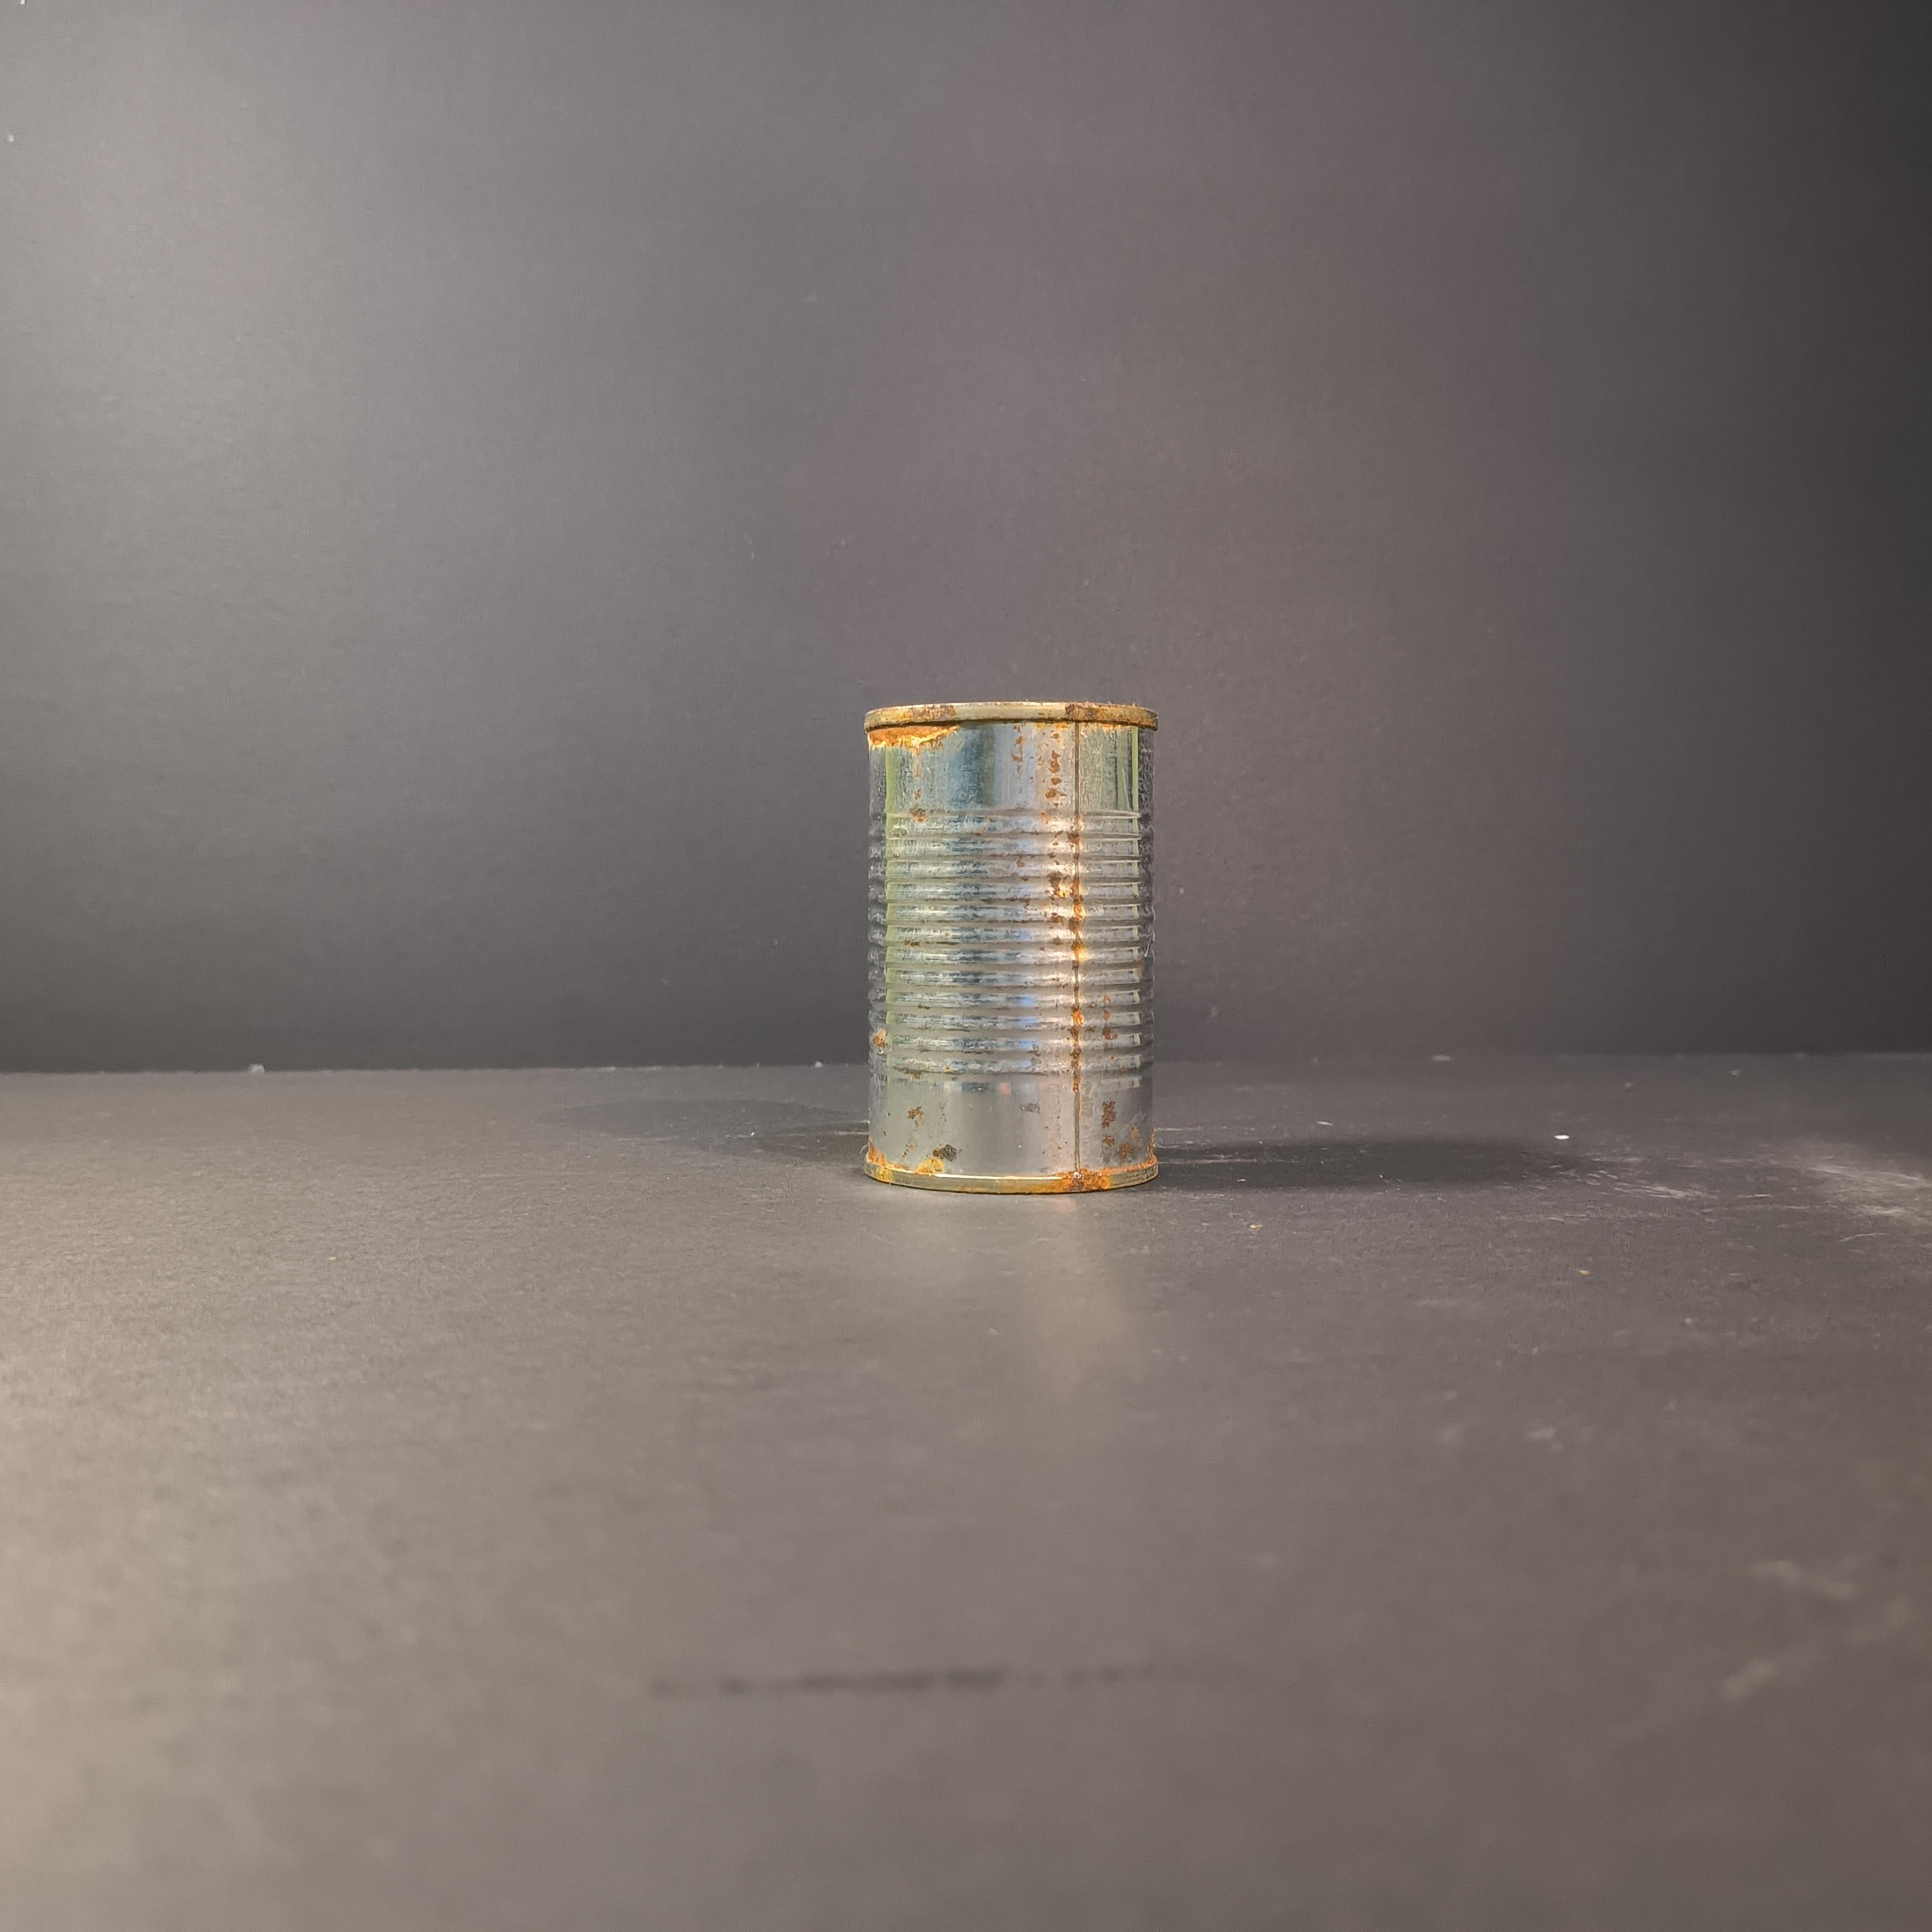Rusted: (842, 681, 1177, 1201)
